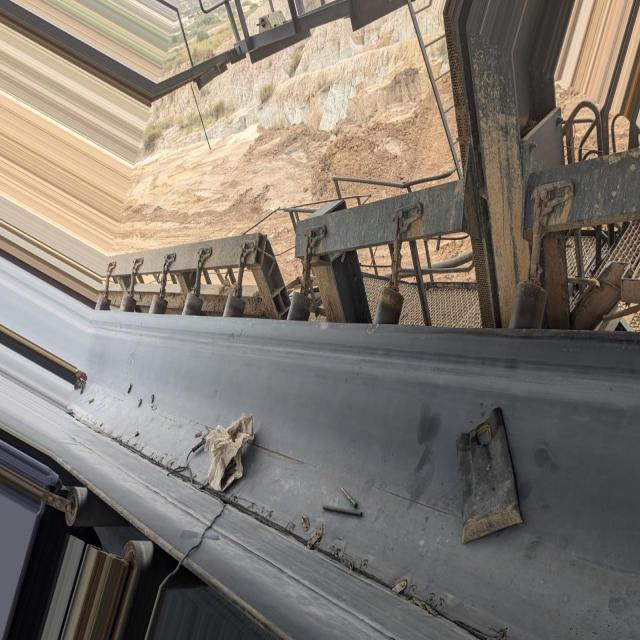Tear: (66, 406, 522, 640)
